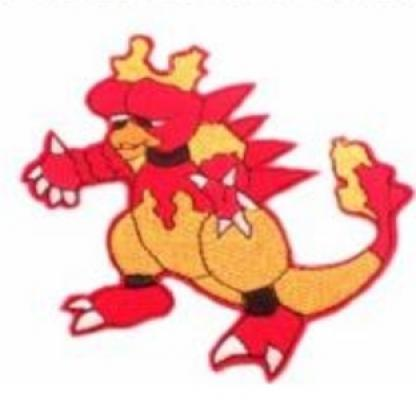Magmar: (30, 38, 416, 380)
